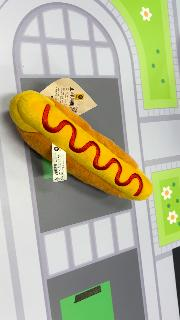hotdog: (8, 90, 154, 202)
